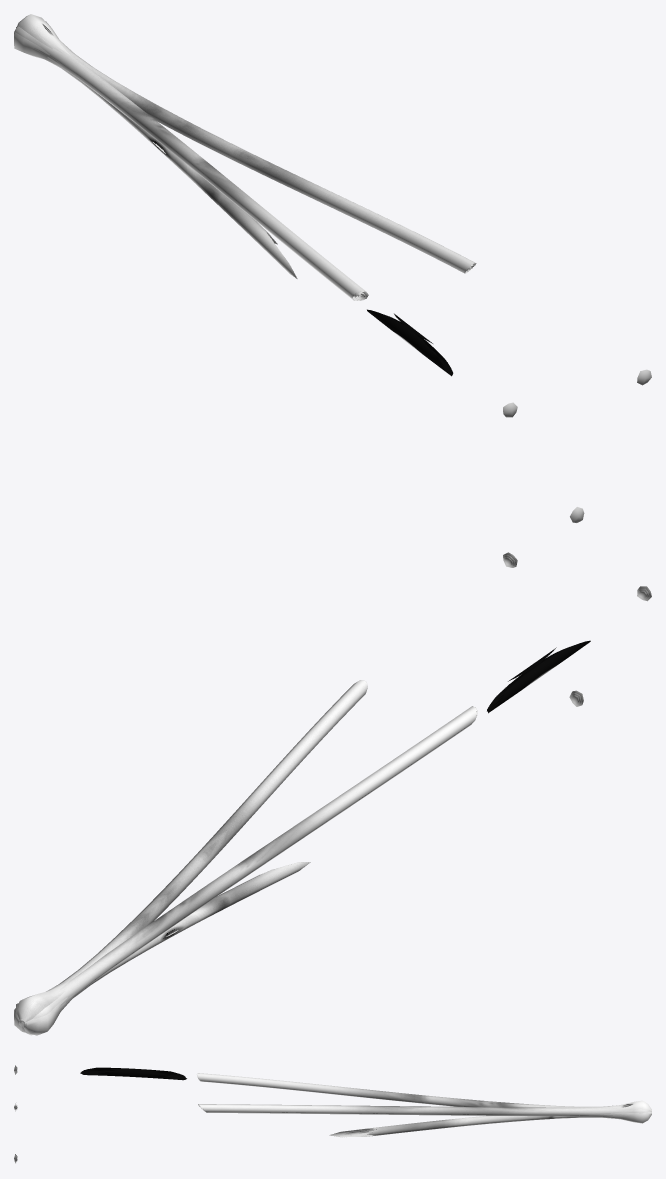
File: toolgun_arc.obj
3 renders of one model, top to bottom at view 1: azimuth 30°, elevation 25°; view 2: azimuth 150°, elevation 25°; view 3: azimuth 270°, elevation 25°, orthographic. The views are drawn at different scales.
Parts seen in each view (by area): view 1: Cube.066_Cube.074; view 2: Cube.066_Cube.074; view 3: Cube.066_Cube.074.
Boxes of the visible parts, <box> form: Cube.066_Cube.074: <box>14,14,651,522</box>; Cube.066_Cube.074: <box>14,552,651,1035</box>; Cube.066_Cube.074: <box>14,1065,651,1163</box>.
Size of the model in its own units: 0.697 by 0.6198 by 4.4.
